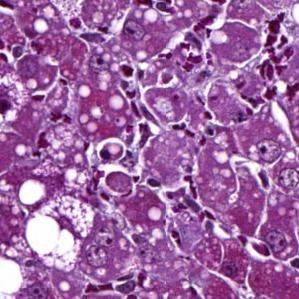ballooning: (23, 193, 98, 274)
